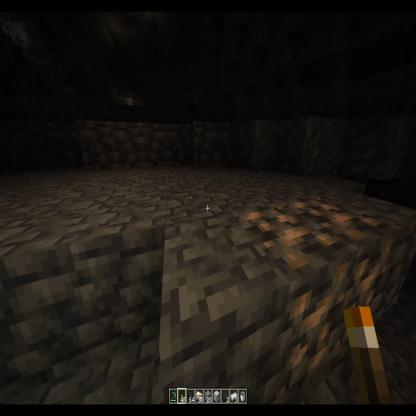iron ore: (238, 203, 352, 414), (289, 196, 392, 359)
